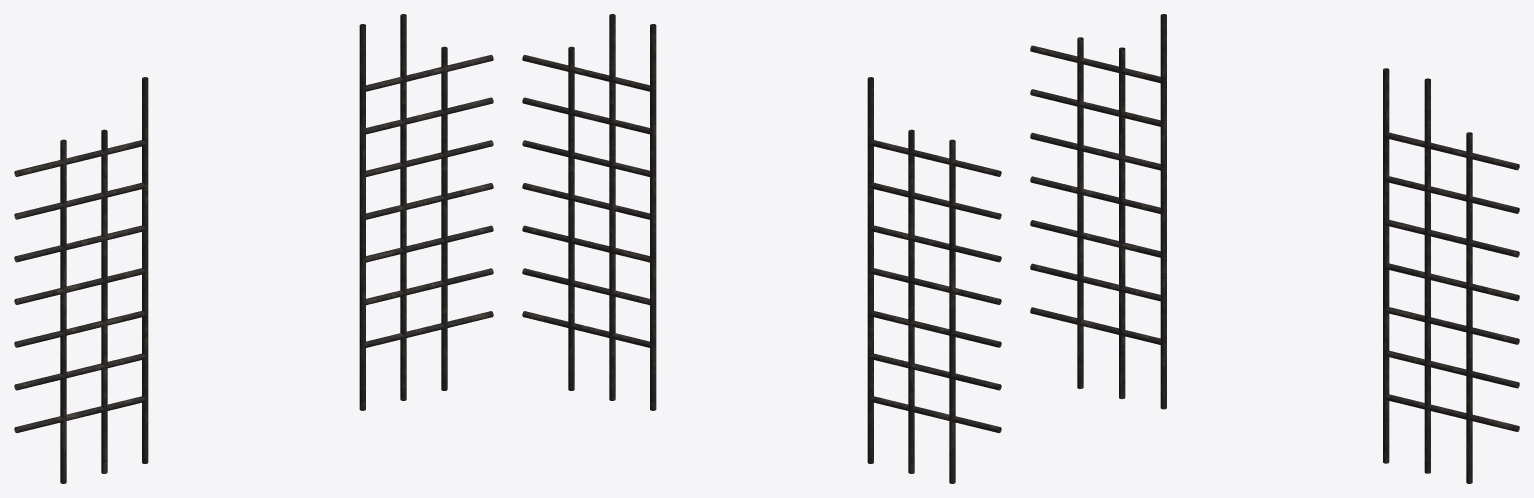
Rendered from bars_metal_3.glb.
The picture shows the model from 3 angles, left to right: view 1: azimuth 30°, elevation 25°; view 2: azimuth 150°, elevation 25°; view 3: azimuth 330°, elevation 25°; orthographic projection. The views are drawn at different scales.
Visible parts, largest first — view 1: bars_metal_3; view 2: bars_metal_3; view 3: bars_metal_3.
Boxes of the visible parts, x1,y1,x2,y2 form: bars_metal_3: (14, 14, 493, 483); bars_metal_3: (522, 14, 1001, 483); bars_metal_3: (1030, 14, 1519, 483).
Size of the model in its own units: 3.5 by 2.7 by 0.04.
1 material, 1 textured.
